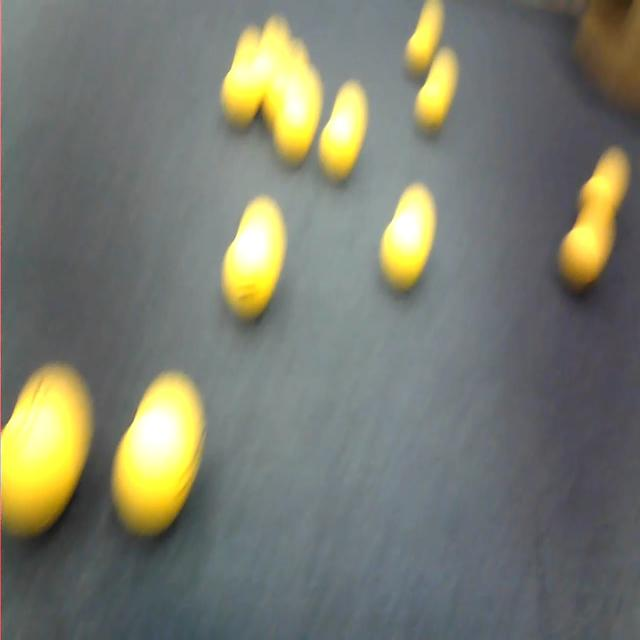fuel: (0, 344, 98, 543), (111, 354, 212, 546), (220, 189, 292, 324), (320, 64, 378, 196), (380, 172, 434, 294), (553, 190, 614, 296), (579, 131, 640, 217), (222, 23, 270, 132), (412, 38, 464, 135), (260, 18, 310, 112), (276, 64, 323, 163), (399, 0, 453, 70)
